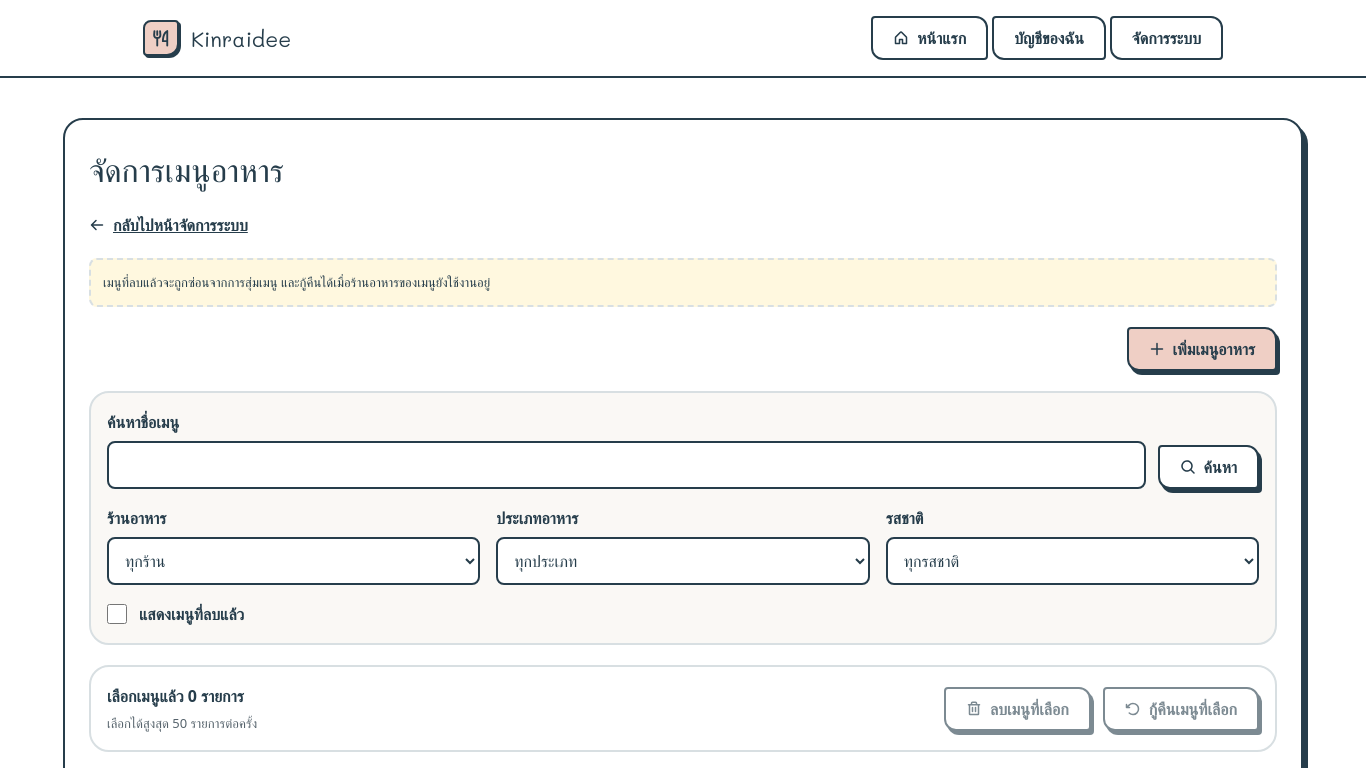
Test: MenuItemsPage create and edit › rejects the price 0
The width and height of the screenshot is (1366, 768).
Click the button "เพิ่มเมนูอาหาร" at (1202, 349), box x1=1126 y1=327 x2=1277 y2=371
(page scrolled)
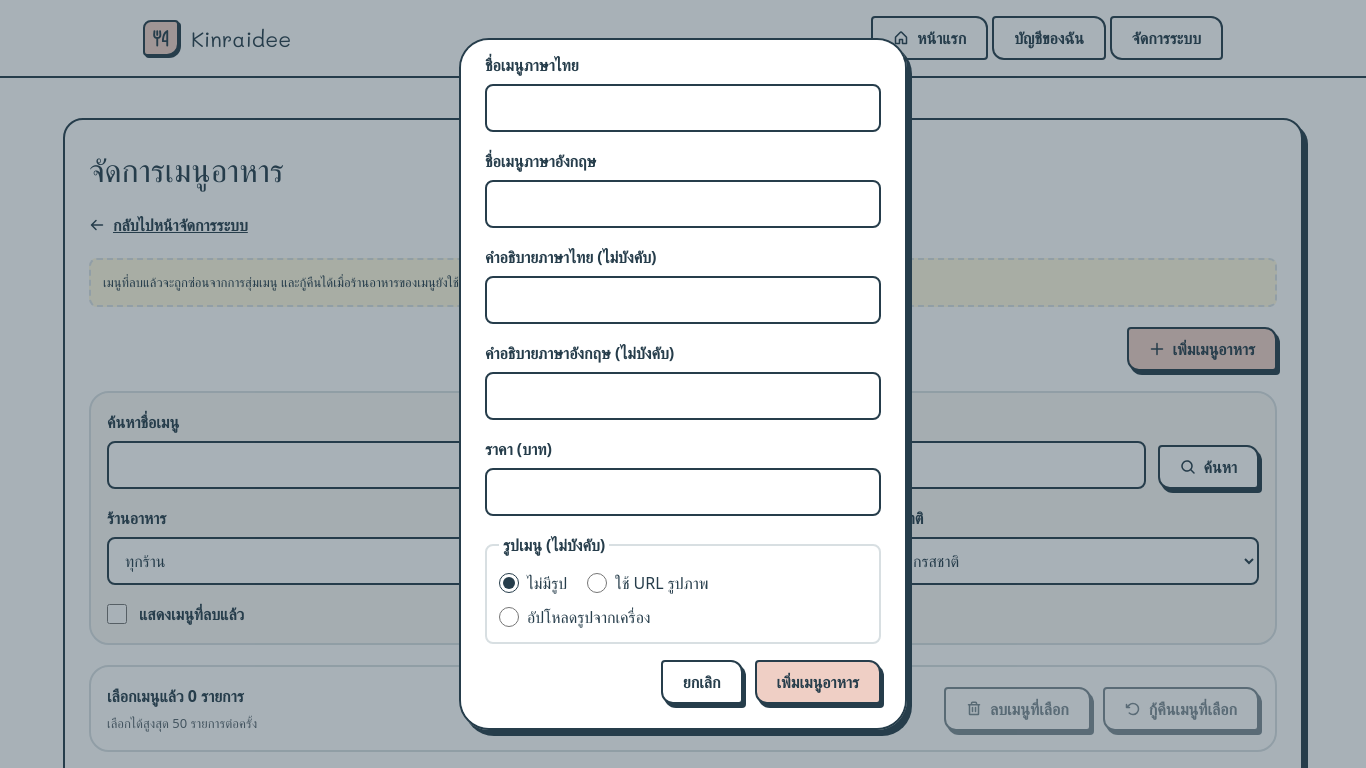
Type "0" into the field labelled "ราคา (บาท)" at (683, 492), box x1=485 y1=468 x2=881 y2=516
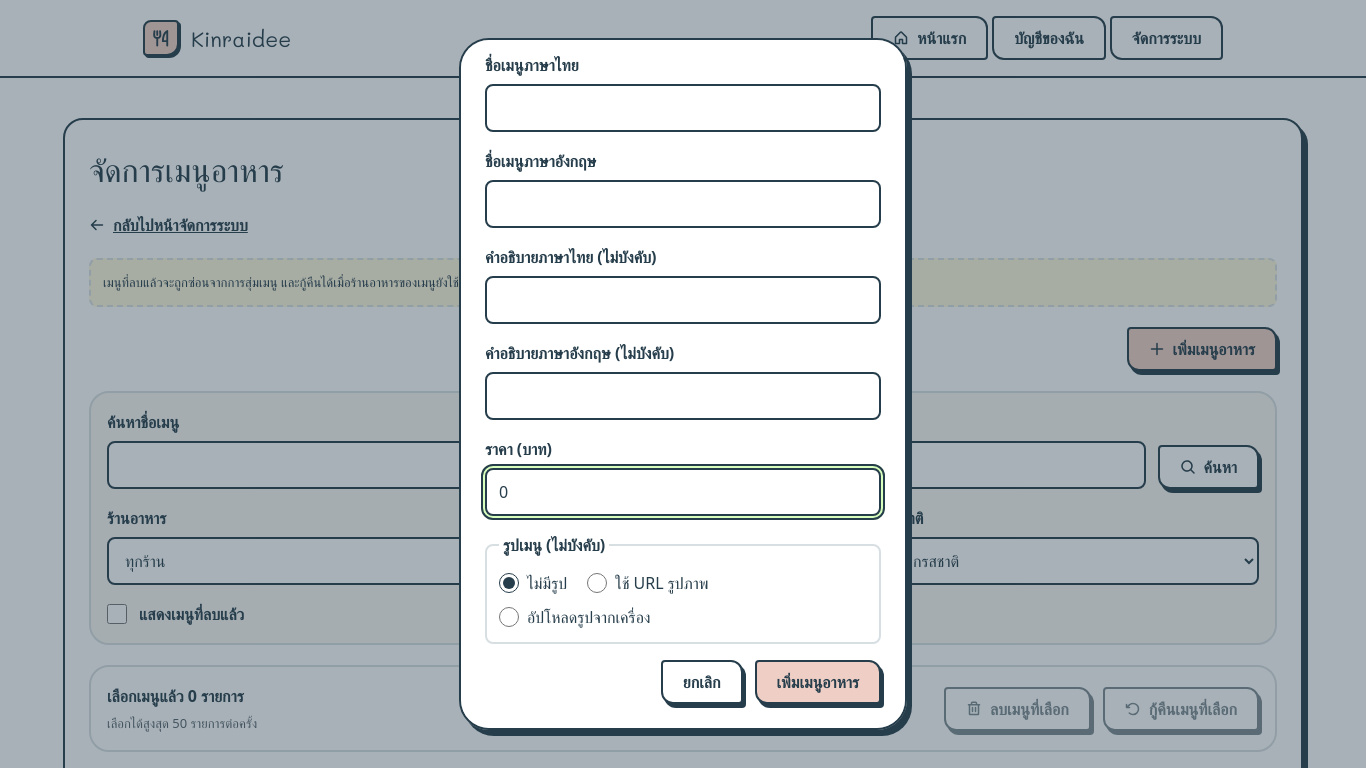
Click the button "เพิ่มเมนูอาหาร" at (818, 682), box x1=754 y1=660 x2=881 y2=704
(page scrolled)
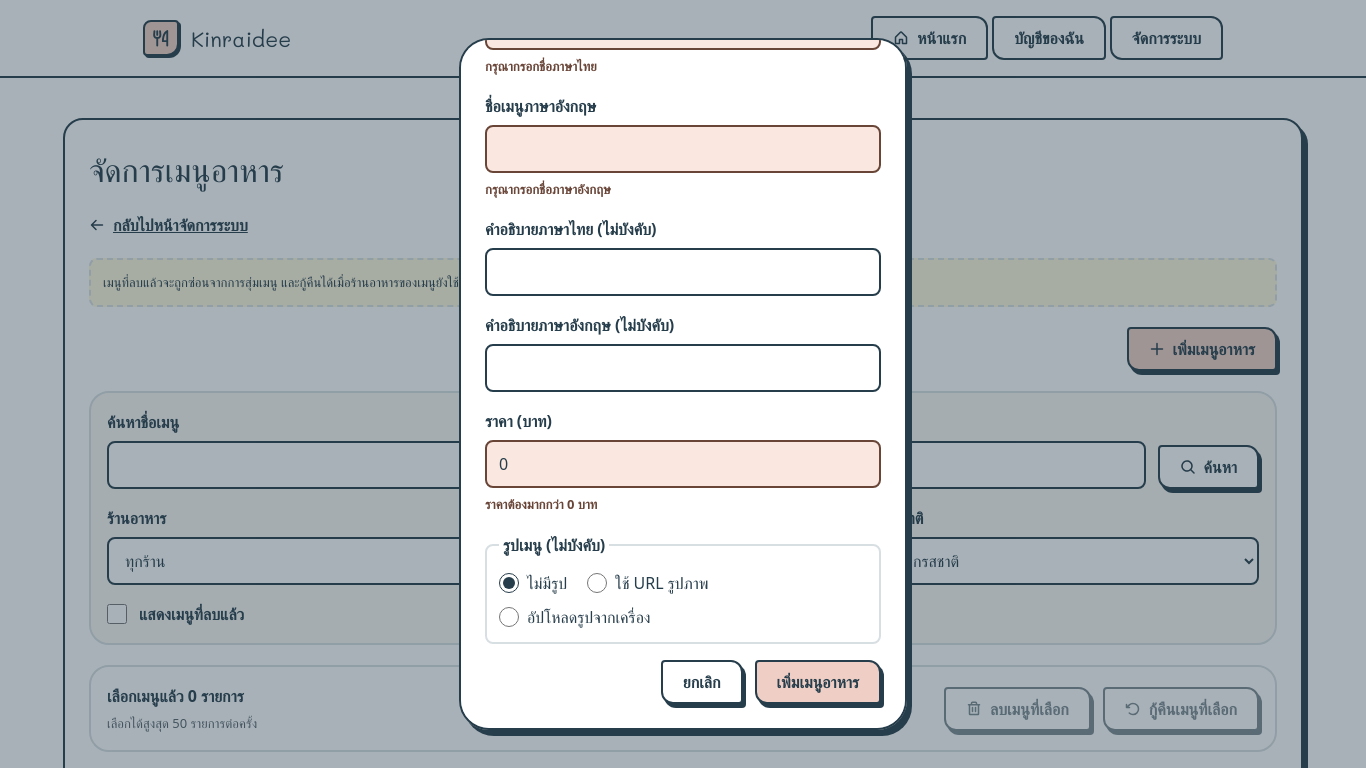
expect the text "ราคาต้องมากกว่า 0 บาท" is shown: met, box x1=485 y1=495 x2=597 y2=513
